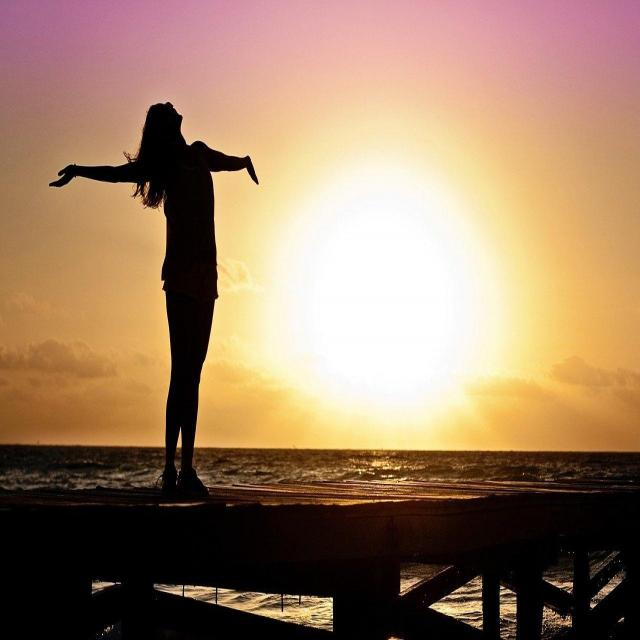person: (49, 59, 270, 517)
